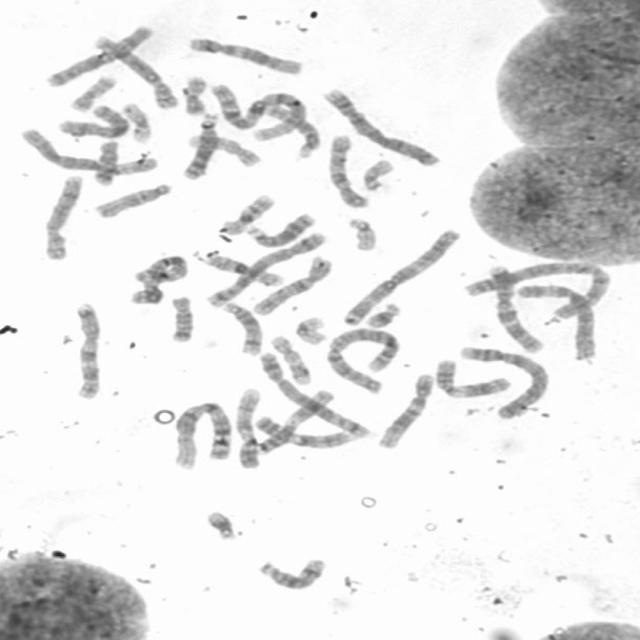A1: (206, 79, 308, 142), (167, 397, 235, 471)
A2: (466, 258, 616, 317), (322, 324, 403, 395)
A3: (338, 224, 464, 328), (124, 250, 188, 307)
B4: (318, 84, 443, 168), (454, 342, 552, 420)
B5: (252, 347, 372, 441), (201, 228, 331, 309)
C10: (248, 252, 336, 317), (323, 130, 372, 210)
C11: (250, 386, 334, 454), (430, 355, 512, 399)
C12: (185, 32, 308, 76), (372, 368, 437, 449)
C6: (16, 123, 162, 177), (510, 279, 598, 363)
C7: (483, 261, 546, 353), (68, 298, 105, 402)
C8: (88, 32, 180, 110), (38, 170, 85, 262)
C9: (248, 411, 358, 450), (231, 384, 264, 470)
D13: (178, 108, 221, 182), (241, 208, 317, 248)
D14: (252, 553, 328, 592), (218, 298, 265, 357)
D15: (90, 178, 176, 220), (259, 102, 322, 159)
E16: (192, 249, 285, 288), (215, 190, 277, 236)
E17: (183, 130, 264, 168), (266, 331, 313, 385)
E18: (164, 291, 197, 344), (88, 137, 121, 187)
F19: (117, 98, 155, 144), (290, 312, 330, 346)
F20: (64, 71, 119, 112), (178, 70, 210, 116)
G21: (200, 506, 240, 542), (360, 298, 403, 329)
G22: (358, 154, 397, 193), (342, 213, 380, 252)
X: (42, 21, 156, 88), (52, 100, 132, 140)
